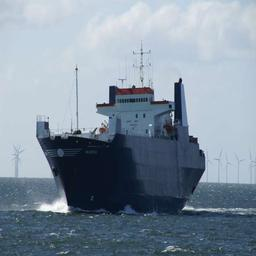Ship: (28, 56, 209, 220)
